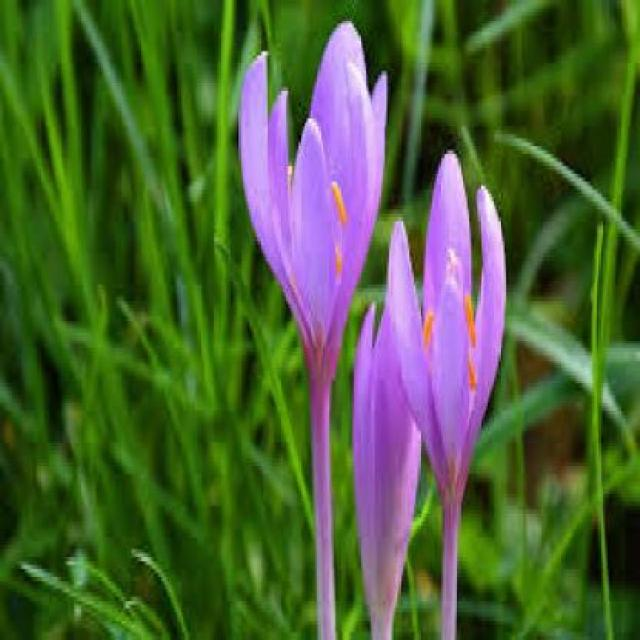Flower: (232, 20, 385, 383), (388, 142, 508, 518), (350, 296, 422, 624)
